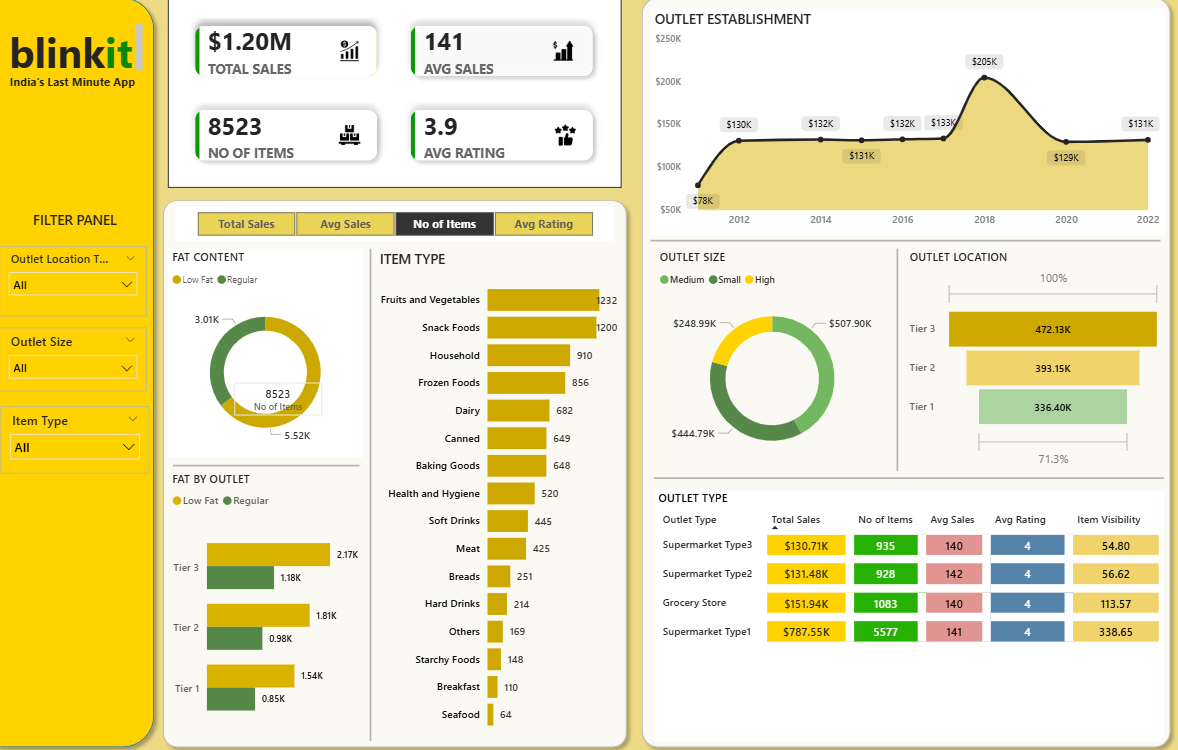

The dashboard page shown, as its layout file describes it:
{"tool":"powerbi","page":{"name":"Page 1","canvas":[1400,900],"ordinal":0},"visuals":[{"type":"shape","box":[0,0,204.5,900.2],"z":0},{"type":"textbox","box":[15,36,172.6,69],"z":1000},{"type":"textbox","box":[15,94.6,169.6,36],"z":2000},{"type":"cardVisual","fields":{"Data":["BlinkIT Grocery Data.Total Sales","BlinkIT Grocery Data.Avg Sales","BlinkIT Grocery Data.No of Items","BlinkIT Grocery Data.Avg Rating"]},"box":[211.8,10.3,533.9,222.1],"z":3000},{"type":"shape","box":[197.1,238.3,563.4,661.9],"z":4000},{"type":"donutChart","title":"FAT CONTENT","fields":{"Y":["BlinkIT Grocery Data.No of Items"],"Category":["BlinkIT Grocery Data.Item Fat Content"]},"box":[211.8,304.5,229.5,245.6],"z":5000},{"type":"slicer","fields":{"Values":["Metrics.Metrics"]},"box":[220.6,254.5,514.8,41.2],"z":6000},{"type":"cardVisual","fields":{"Data":["BlinkIT Grocery Data.No of Items"]},"box":[289.7,462.3,103.6,39],"z":7000},{"type":"clusteredBarChart","title":"FAT BY OUTLET","fields":{"Y":["BlinkIT Grocery Data.No of Items"],"Category":["BlinkIT Grocery Data.Outlet Location Type"],"Series":["BlinkIT Grocery Data.Item Fat Content"]},"box":[211.8,566.3,232.4,317.7],"z":8000},{"type":"shape","box":[217.7,550.1,219.2,19.1],"z":9000},{"type":"shape","box":[444.2,304.5,11.8,579.5],"z":10000},{"type":"barChart","title":"ITEM TYPE","fields":{"Y":["BlinkIT Grocery Data.No of Items"],"Category":["BlinkIT Grocery Data.Item Type"]},"box":[456,304.5,289.8,579.5],"z":11000},{"type":"shape","box":[760.5,0,639.8,900.2],"z":12000},{"type":"lineChart","title":"OUTLET ESTABLISHMENT","fields":{"Y":["BlinkIT Grocery Data.Total Sales"],"Category":["BlinkIT Grocery Data.Outlet Establishment Year"]},"box":[779.6,22.1,604.5,266.2],"z":13000},{"type":"donutChart","title":"OUTLET SIZE","fields":{"Y":["BlinkIT Grocery Data.Total Sales"],"Category":["BlinkIT Grocery Data.Outlet Size"]},"box":[785.5,304.5,275.1,260.3],"z":14000},{"type":"funnel","title":"OUTLET LOCATION","fields":{"Y":["Sum(BlinkIT Grocery Data.Sales)"],"Category":["BlinkIT Grocery Data.Outlet Location Type"]},"box":[1079.6,304.5,305.9,263.3],"z":15000},{"type":"pivotTable","title":"OUTLET TYPE","fields":{"Rows":["BlinkIT Grocery Data.Outlet Type"],"Values":["BlinkIT Grocery Data.Total Sales","BlinkIT Grocery Data.No of Items","BlinkIT Grocery Data.Avg Sales","BlinkIT Grocery Data.Avg Rating","Sum(BlinkIT Grocery Data.Item Visibility)"]},"box":[784,588.4,600.1,295.7],"z":16000},{"type":"shape","box":[784,567.8,600.1,13.2],"z":17000},{"type":"shape","box":[779.6,288.3,600.1,13.2],"z":18000},{"type":"shape","box":[1060.5,304.5,19.1,261.8],"z":19000},{"type":"slicer","fields":{"Values":["BlinkIT Grocery Data.Outlet Location Type"]},"box":[13.2,301.5,173.6,82.4],"z":20000},{"type":"slicer","fields":{"Values":["BlinkIT Grocery Data.Outlet Size"]},"box":[13.2,397.1,173.6,75],"z":21000},{"type":"textbox","box":[14.7,254.5,175,39.7],"z":22000},{"type":"slicer","fields":{"Values":["BlinkIT Grocery Data.Item Type"]},"box":[14.7,489.8,175,79.4],"z":23000}]}

Visuals, with their boxes in screenshot pixels (x1, y1, x2, y2), scaled from the page's 1400x900 canvas onto the 1178x750 screenshot:
shape: x1=0, y1=0, x2=172, y2=749
textbox: x1=13, y1=30, x2=158, y2=88
textbox: x1=13, y1=79, x2=155, y2=109
cardVisual - BlinkIT Grocery Data.Total Sales x BlinkIT Grocery Data.Avg Sales: x1=178, y1=9, x2=627, y2=194
shape: x1=166, y1=199, x2=640, y2=749
"FAT CONTENT" donutChart: x1=178, y1=254, x2=371, y2=458
slicer - Metrics.Metrics: x1=186, y1=212, x2=619, y2=246
cardVisual - BlinkIT Grocery Data.No of Items: x1=244, y1=385, x2=331, y2=418
"FAT BY OUTLET" clusteredBarChart: x1=178, y1=472, x2=374, y2=737
shape: x1=183, y1=458, x2=368, y2=474
shape: x1=374, y1=254, x2=384, y2=737
"ITEM TYPE" barChart: x1=384, y1=254, x2=628, y2=737
shape: x1=640, y1=0, x2=1177, y2=749
"OUTLET ESTABLISHMENT" lineChart: x1=656, y1=18, x2=1165, y2=240
"OUTLET SIZE" donutChart: x1=661, y1=254, x2=892, y2=471
"OUTLET LOCATION" funnel: x1=908, y1=254, x2=1166, y2=473
"OUTLET TYPE" pivotTable: x1=660, y1=490, x2=1165, y2=737
shape: x1=660, y1=473, x2=1165, y2=484
shape: x1=656, y1=240, x2=1161, y2=251
shape: x1=892, y1=254, x2=908, y2=472
slicer - BlinkIT Grocery Data.Outlet Location Type: x1=11, y1=251, x2=157, y2=320
slicer - BlinkIT Grocery Data.Outlet Size: x1=11, y1=331, x2=157, y2=393
textbox: x1=12, y1=212, x2=160, y2=245
slicer - BlinkIT Grocery Data.Item Type: x1=12, y1=408, x2=160, y2=474
